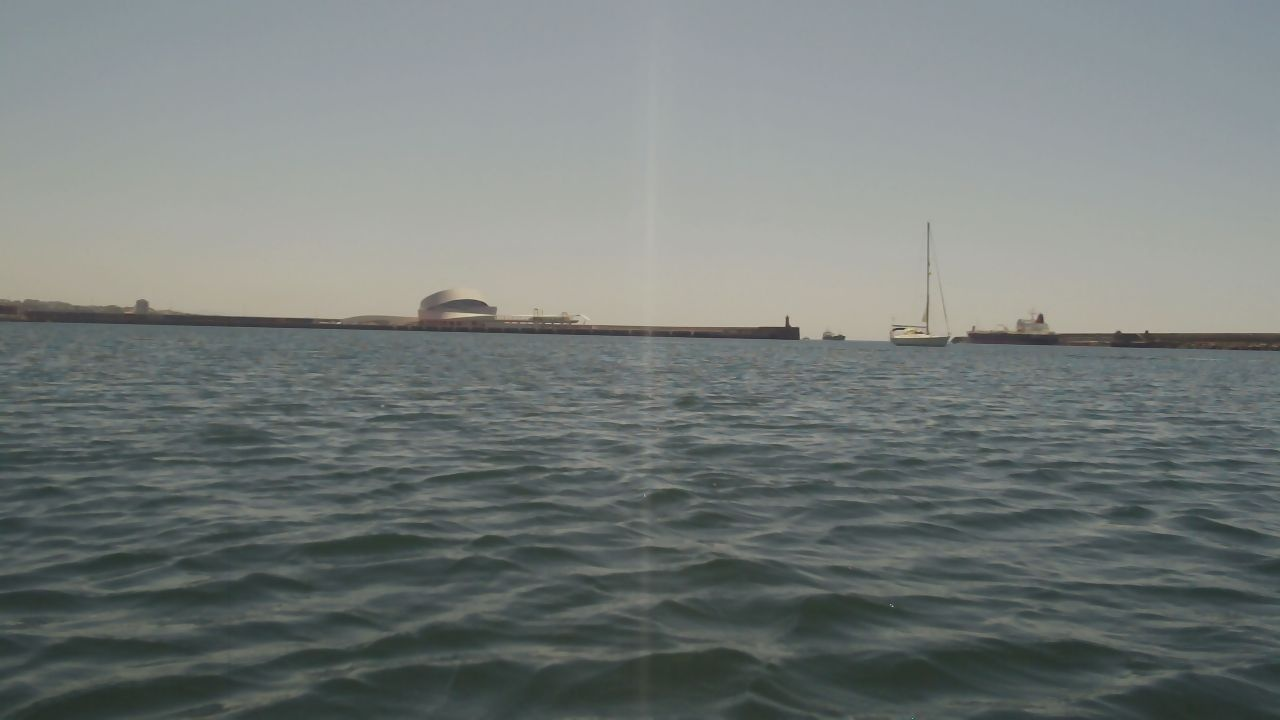Container Ship: (967, 314, 1059, 342)
